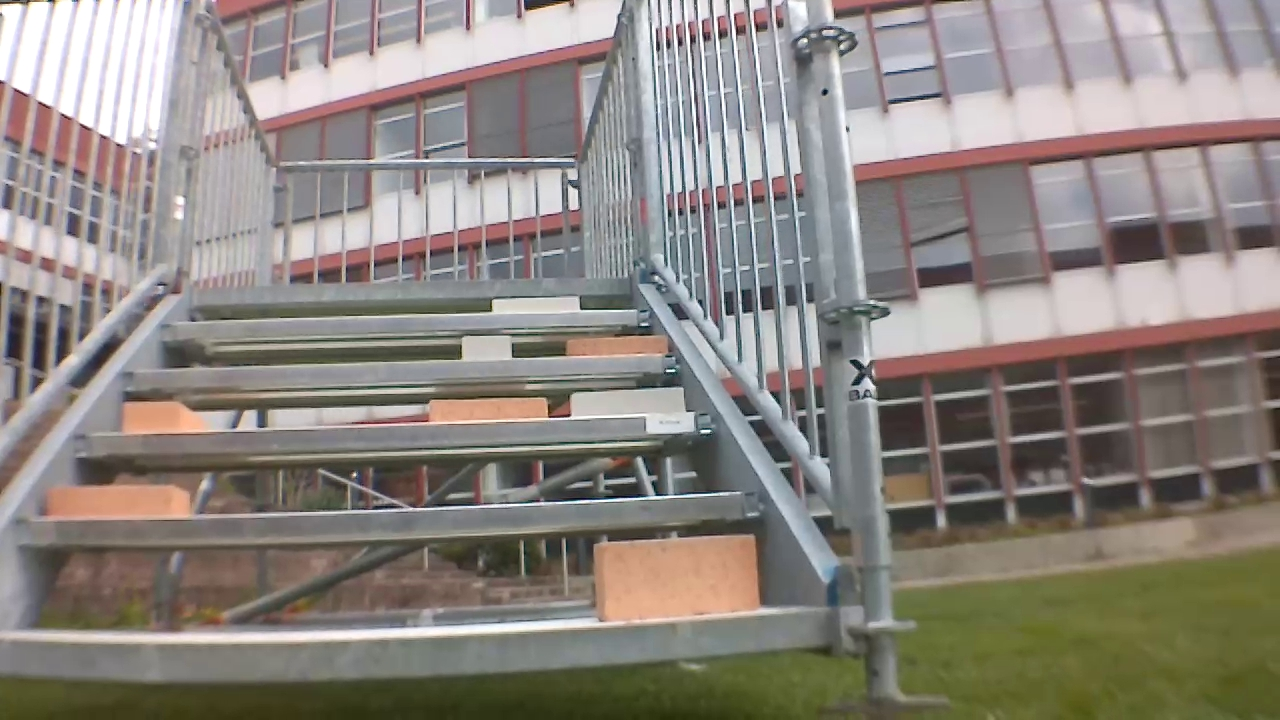brick: (588, 527, 757, 632), (50, 479, 189, 515), (567, 387, 688, 422), (427, 397, 551, 423), (113, 401, 211, 433), (487, 298, 583, 317), (569, 340, 676, 355), (457, 333, 512, 359)
edge: (0, 600, 843, 683), (0, 487, 779, 546), (75, 405, 729, 458), (149, 304, 656, 343), (114, 358, 695, 389), (183, 275, 633, 305)
stairs: (0, 0, 890, 701)
steps: (0, 275, 846, 688)
